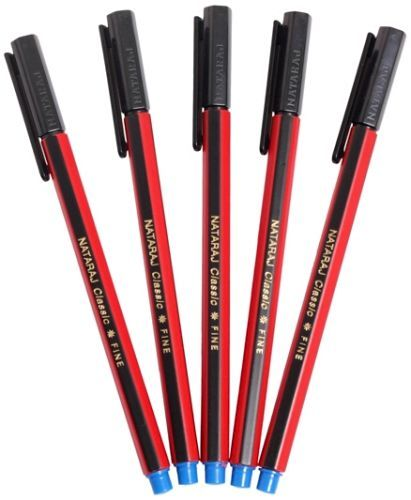Nonrec_Other: (4, 4, 406, 498)
